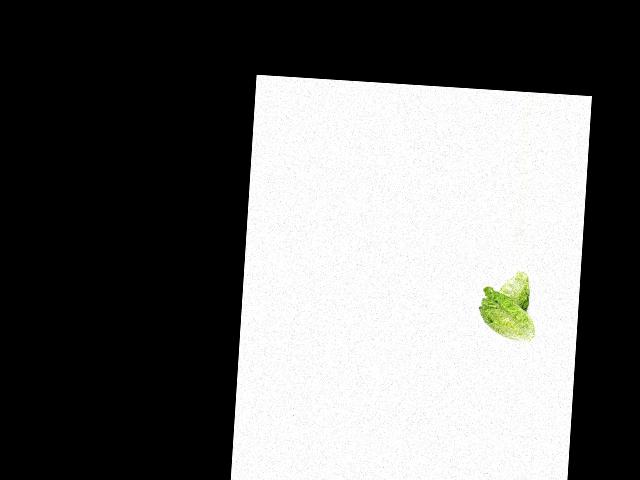lettuce: (496, 268, 534, 311)
